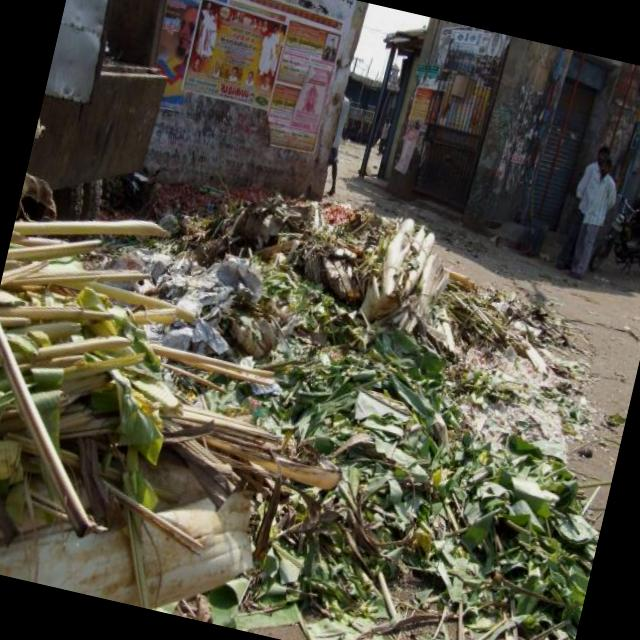garbage: (34, 173, 640, 640)
